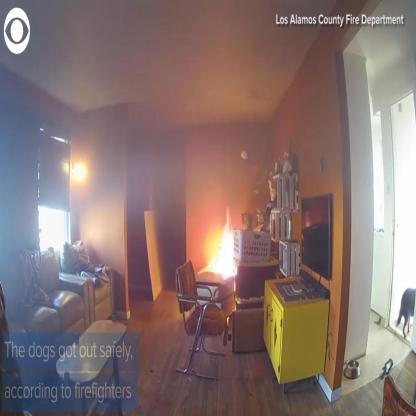fire: (201, 207, 238, 280)
